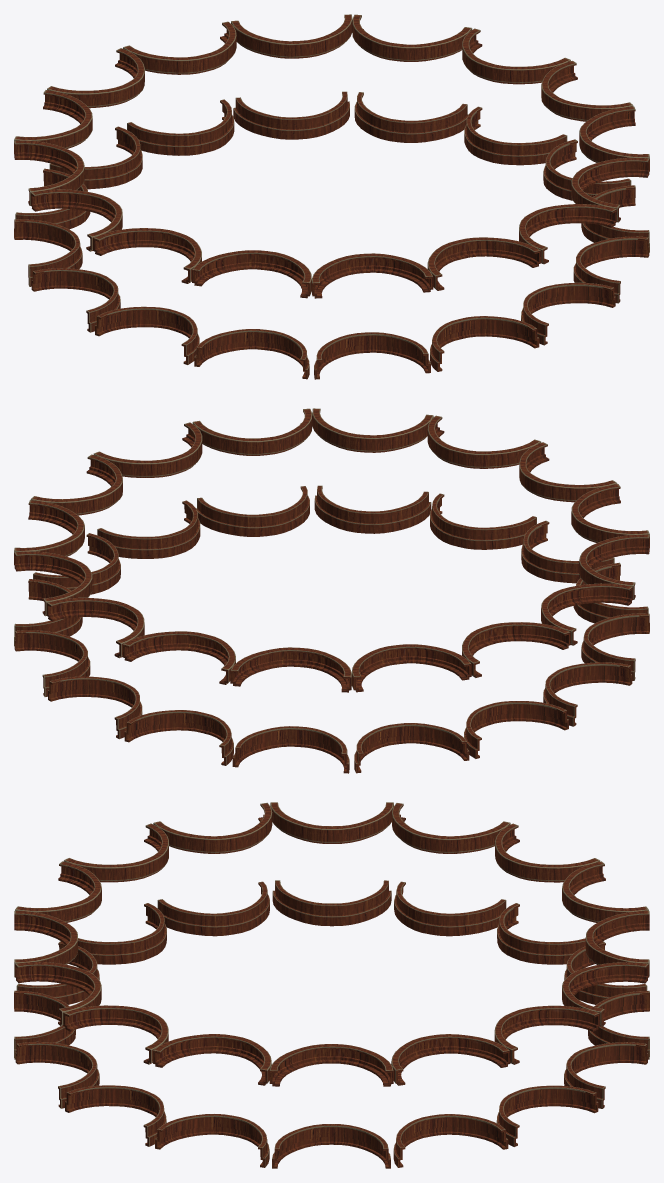
Rendered from Selected_Becnh.obj.
The picture shows the model from 3 angles, top to bottom: view 1: azimuth 30°, elevation 25°; view 2: azimuth 150°, elevation 25°; view 3: azimuth 270°, elevation 25°; orthographic projection.
Parts seen in each view (by area): view 1: Trial_Bench; view 2: Trial_Bench; view 3: Trial_Bench.
Boxes of the visible parts, x1,y1,x2,y2 form: Trial_Bench: (14,14,649,379); Trial_Bench: (14,408,649,773); Trial_Bench: (14,802,649,1168).
Size of the model in its own units: 5.96 by 1.01 by 5.96.
1 material, 1 textured.
